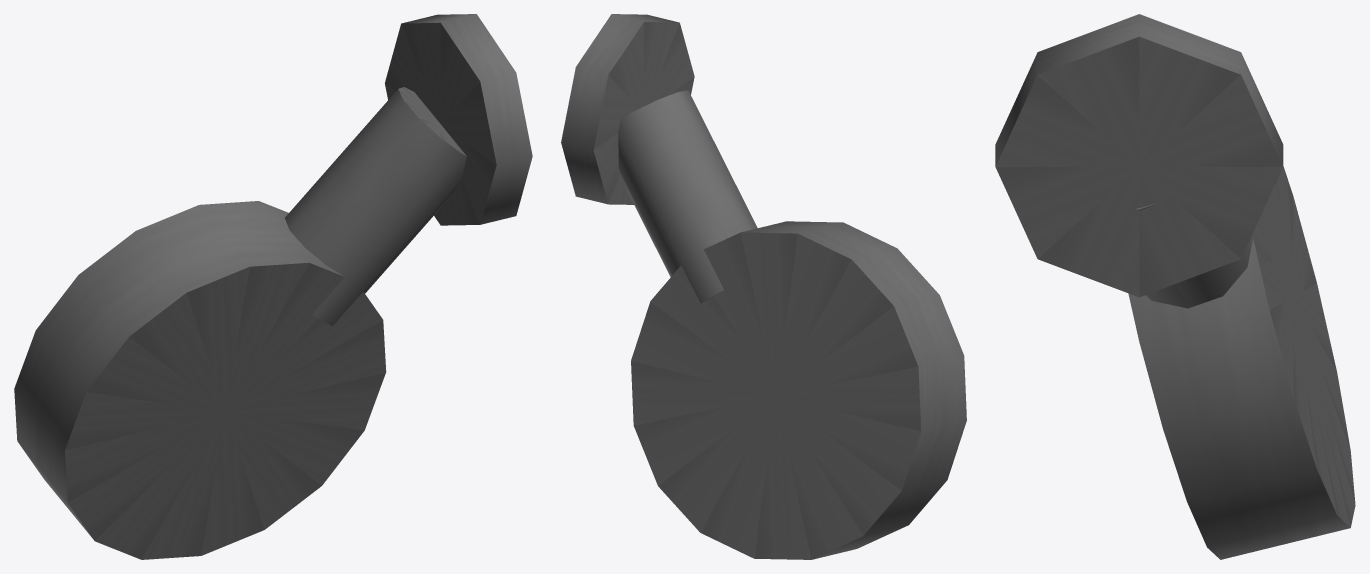
The model's file is mastarmcurve_5x1_c2_east.obj.
3 renders of one model, left to right at view 1: azimuth 30°, elevation 25°; view 2: azimuth 150°, elevation 25°; view 3: azimuth 270°, elevation 25°, orthographic. The views are drawn at different scales.
Visible parts, largest first — view 1: mastarm_5x1_c2_east; view 2: mastarm_5x1_c2_east; view 3: mastarm_5x1_c2_east.
Boxes of the visible parts, box(x1,y1,x2,y2) form: mastarm_5x1_c2_east: box(14, 14, 532, 559); mastarm_5x1_c2_east: box(561, 14, 966, 559); mastarm_5x1_c2_east: box(995, 14, 1355, 559).
Size of the model in its own units: 0.833 by 1 by 0.5004.
